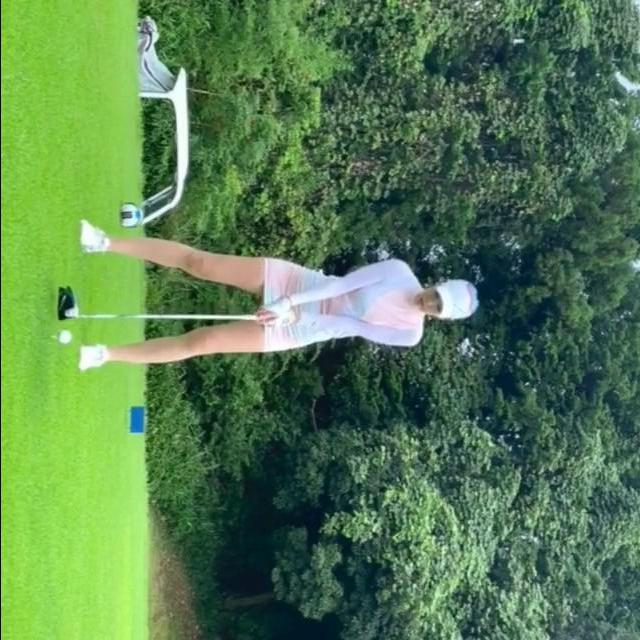golf ball: (56, 327, 73, 343)
golf club-handle: (53, 282, 261, 323)
golf club-head: (55, 284, 79, 321)
